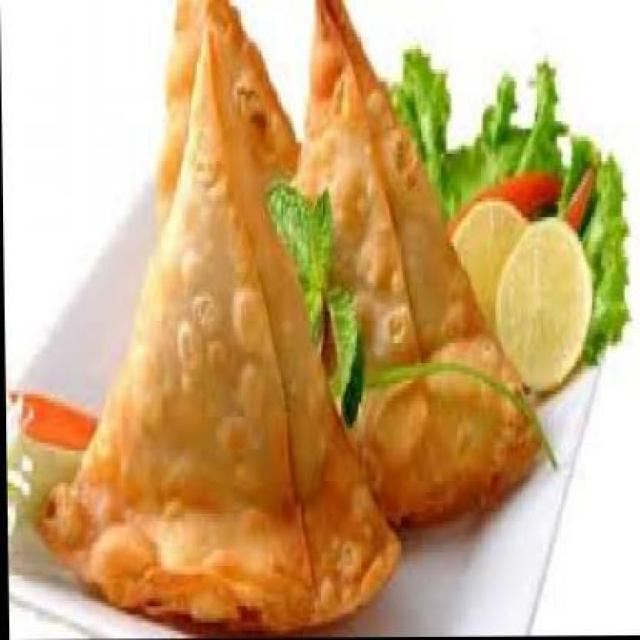samosa: (28, 17, 400, 637), (283, 0, 542, 531)
